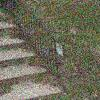stairs: (0, 15, 61, 100)
